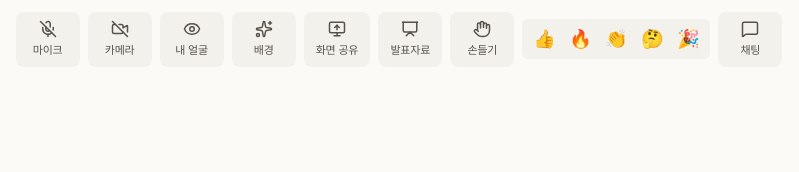
it: MeetControls › 숨기기를 켤 때 상대에겐 계속 보인다고 안내한다(카메라 끄기와 구분)
The image size is (799, 172).
Step 1. Click the button with aria-label "내 화면에서 내 얼굴 숨기기" → [192, 39], box [160,12,224,66]
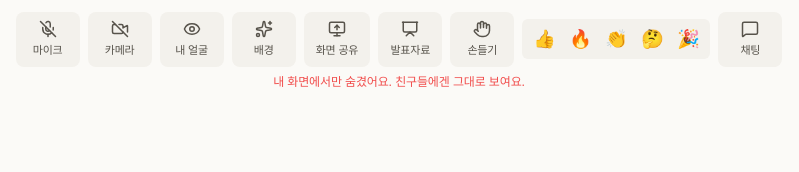
Result: the text "내 화면에서만 숨겼어요. 친구들에겐 그대로 보여요." is shown at [273,72,525,90]
